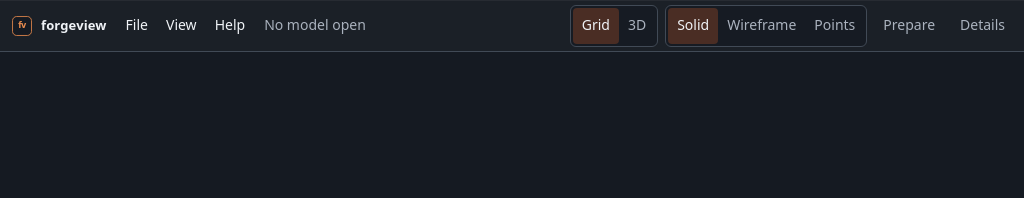
Scenario: Toolbar application menus › Escape closes a menu and restores focus
The image size is (1024, 198).
Click the button "File": (137, 26) [117,8,157,44]
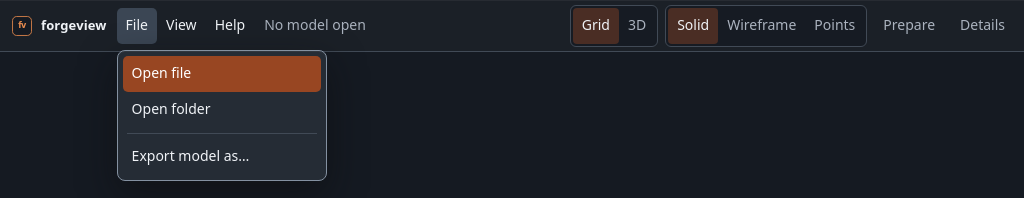
Press Escape
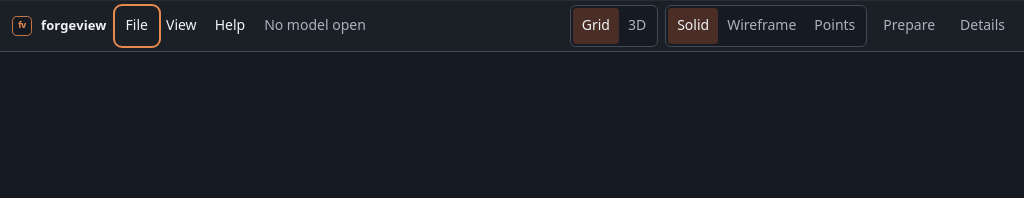
Now the menu with test id "toolbar-file-menu" is gone
